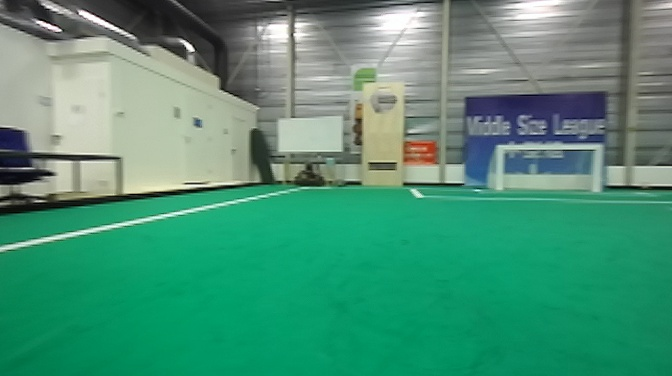goalpost: (591, 140, 609, 194), (493, 142, 507, 193)
